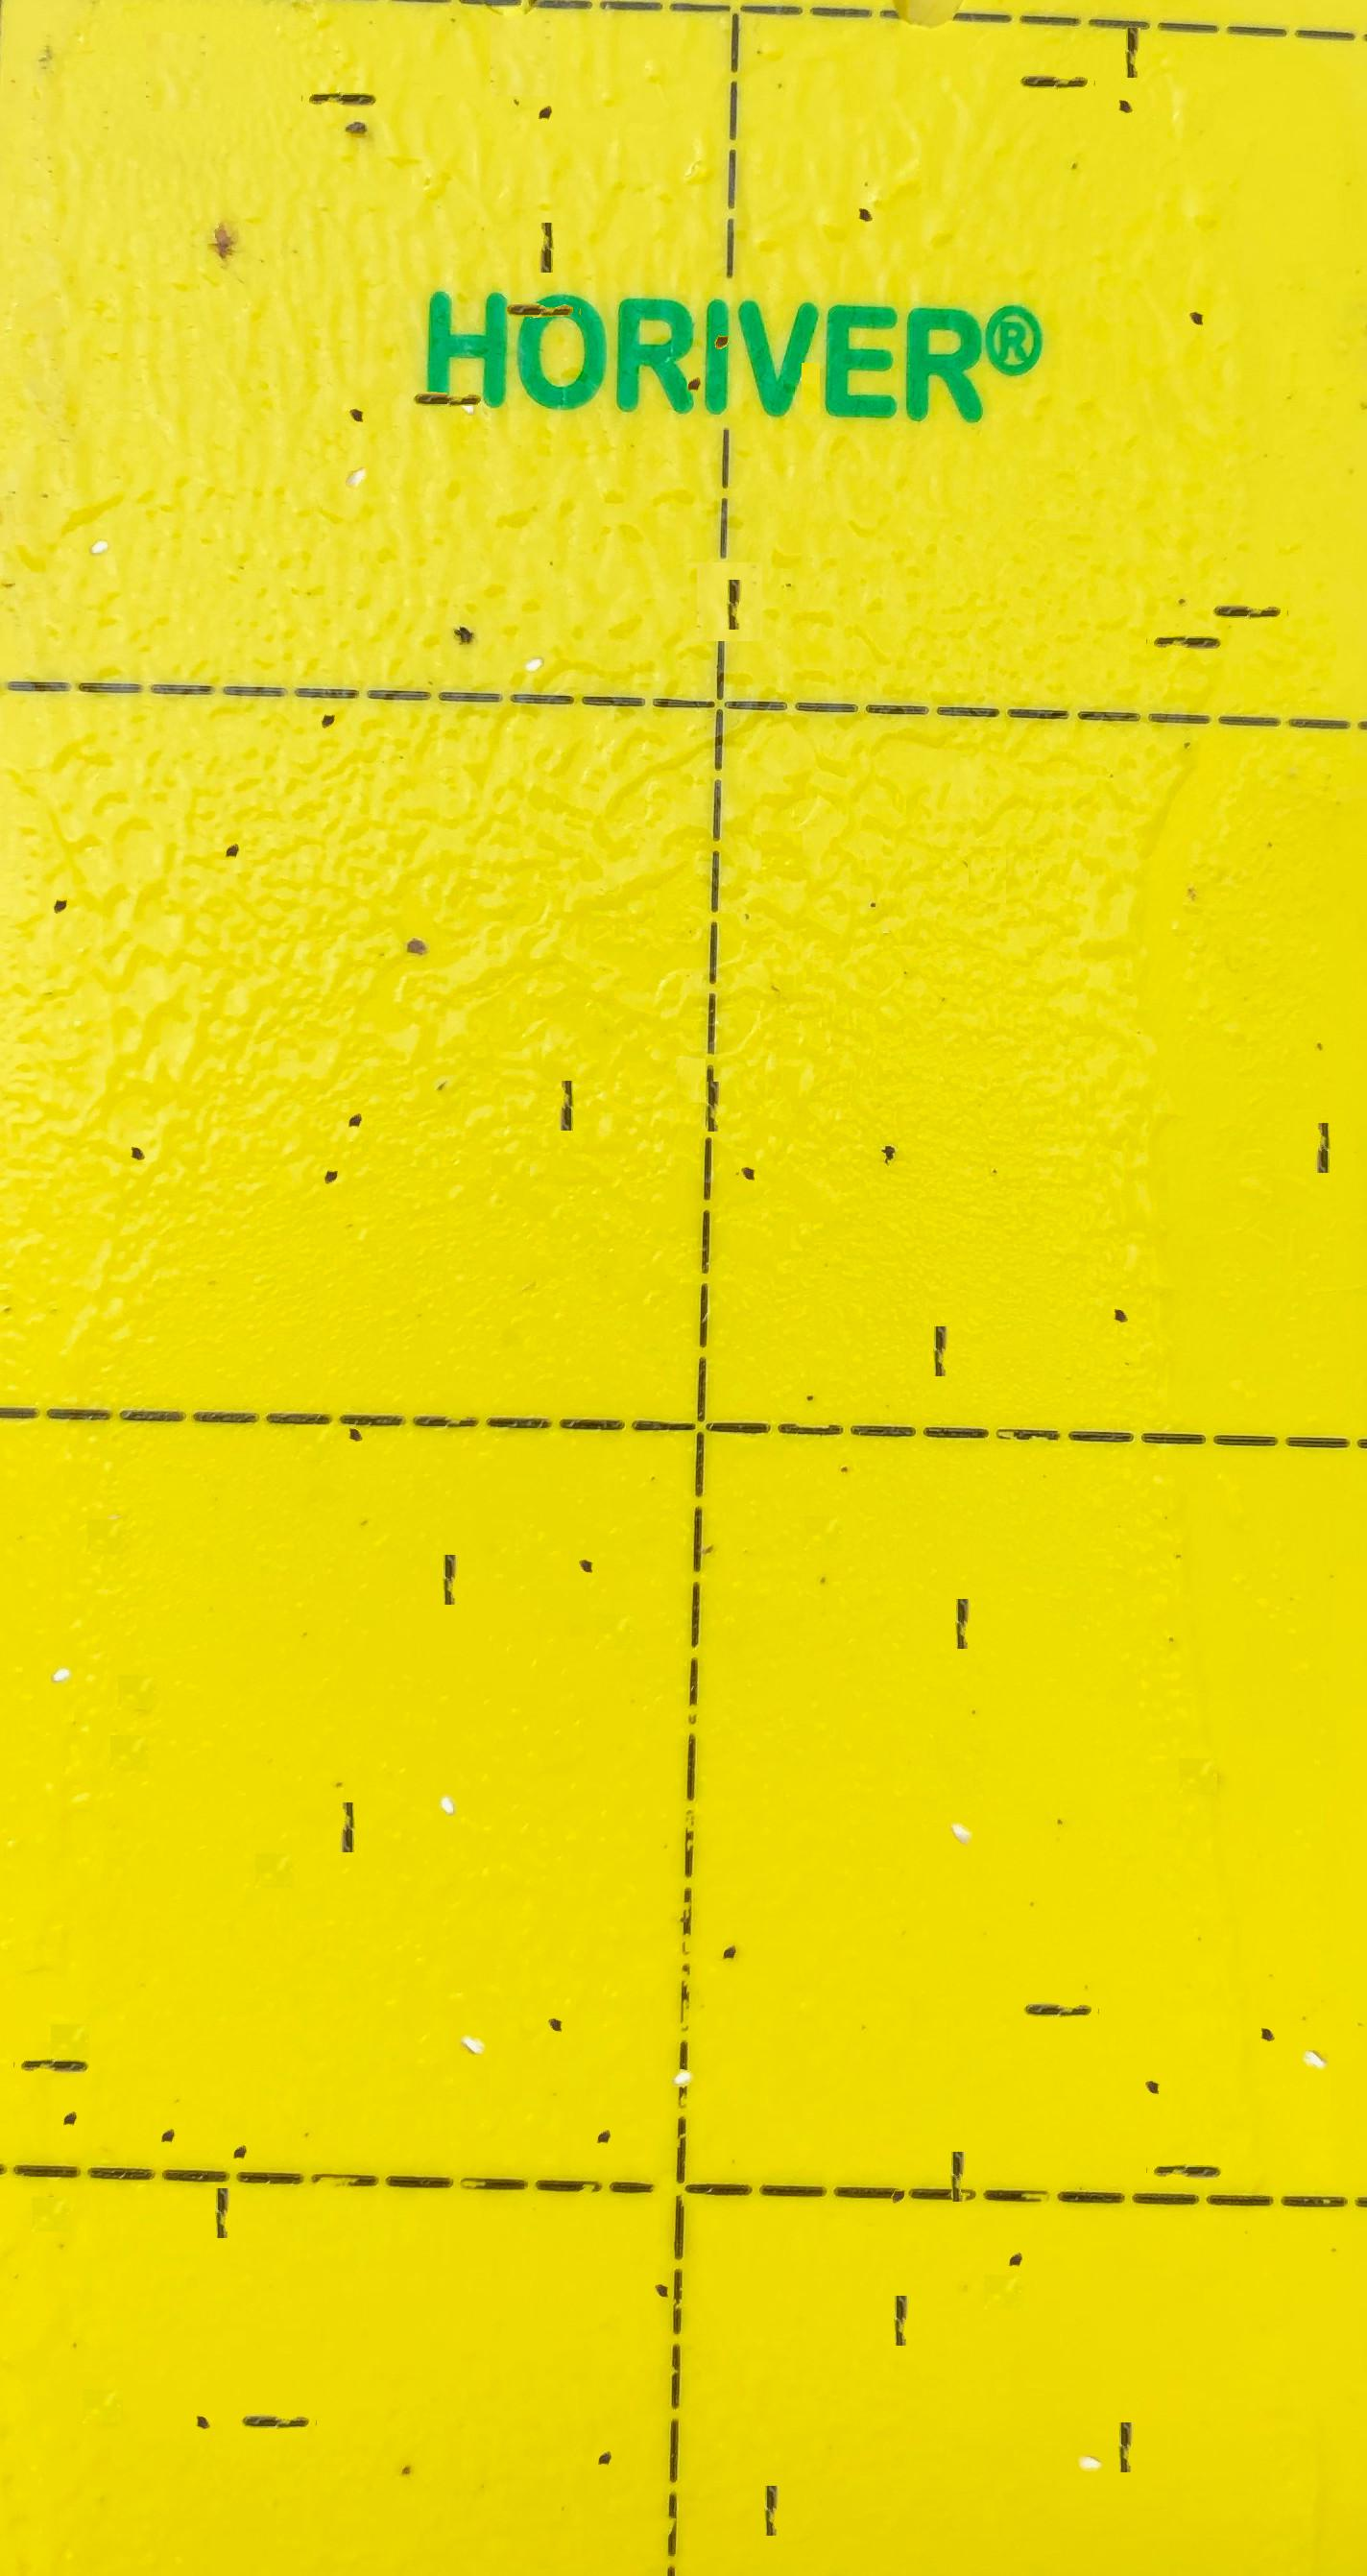white_fly: (80, 475, 123, 525), (41, 1603, 84, 1653), (511, 593, 554, 641), (447, 332, 489, 380), (428, 1733, 469, 1780), (663, 2007, 704, 2055), (453, 1976, 496, 2021), (1292, 1993, 1333, 2039), (941, 1770, 983, 1813), (336, 414, 377, 458), (1069, 2406, 1110, 2443)
